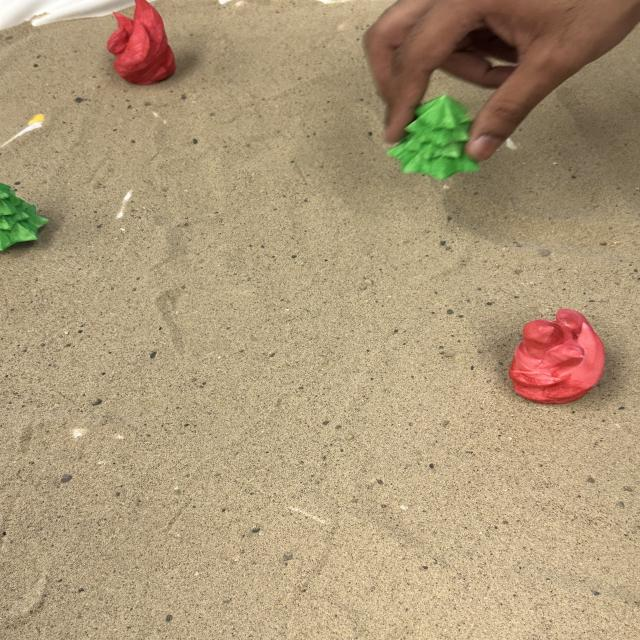fire: (507, 306, 606, 404), (105, 0, 177, 86)
house: (384, 93, 482, 181)
tree: (0, 177, 55, 256)
